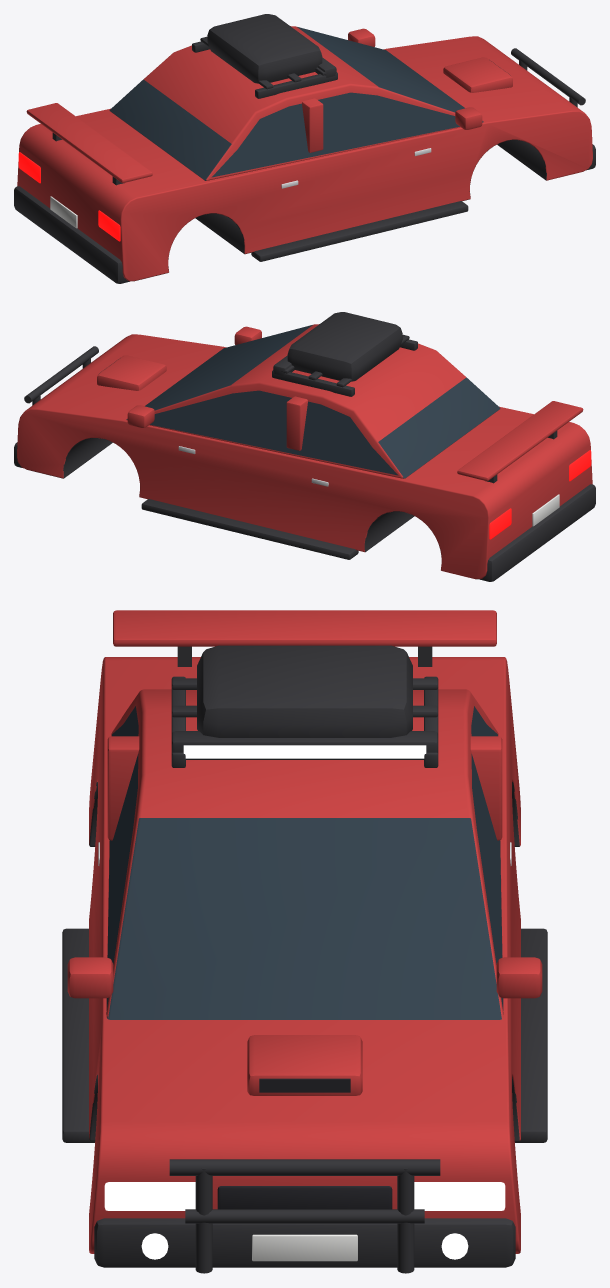
The model's file is sedan_classico.glb.
3 views of the same model, one above another, from view 1: azimuth 30°, elevation 25°; view 2: azimuth 150°, elevation 25°; view 3: azimuth 270°, elevation 25° (orthographic). The views are drawn at different scales.
Visible parts, largest first — view 1: carroceria, cabine, bagageiro, asa, parachoque_t, estribo, tomada, coluna0, qm_barra, rack_trilho, retrovisor-1, placa_t (+3 smaller); view 2: carroceria, cabine, bagageiro, asa, parachoque_t, estribo.001, tomada, coluna0, qm_barra, rack_trilho.001, retrovisor1, placa_t (+3 smaller); view 3: cabine, carroceria, bagageiro, parachoque_d, asa, tomada, estribo, estribo.001, qm_barra, coluna0, grade, qm_barra2 (+10 smaller).
Boxes of the visible parts, left/top/right/bottom form: carroceria: left=17, top=36, right=592, bottom=281; cabine: left=109, top=26, right=483, bottom=180; bagageiro: left=207, top=14, right=322, bottom=83; asa: left=26, top=103, right=152, bottom=182; parachoque_t: left=14, top=186, right=129, bottom=283; estribo: left=251, top=201, right=468, bottom=261; tomada: left=443, top=57, right=512, bottom=92; coluna0: left=302, top=98, right=323, bottom=152; qm_barra: left=511, top=48, right=585, bottom=105; rack_trilho: left=255, top=72, right=337, bottom=98; retrovisor-1: left=455, top=107, right=482, bottom=129; placa_t: left=50, top=196, right=77, bottom=228; carroceria: left=17, top=334, right=592, bottom=579; cabine: left=126, top=324, right=500, bottom=478; bagageiro: left=287, top=312, right=402, bottom=381; asa: left=457, top=401, right=583, bottom=480; parachoque_t: left=480, top=484, right=595, bottom=581; estribo.001: left=141, top=499, right=358, bottom=559; tomada: left=97, top=355, right=166, bottom=390; coluna0: left=286, top=396, right=307, bottom=450; qm_barra: left=24, top=346, right=98, bottom=403; rack_trilho.001: left=272, top=370, right=354, bottom=396; retrovisor1: left=127, top=405, right=154, bottom=427; placa_t: left=532, top=494, right=559, bottom=526; cabine: left=106, top=689, right=503, bottom=1019; carroceria: left=89, top=657, right=520, bottom=1253; bagageiro: left=197, top=645, right=412, bottom=737; parachoque_d: left=94, top=1218, right=515, bottom=1267; asa: left=113, top=610, right=496, bottom=646; tomada: left=247, top=1035, right=362, bottom=1095; estribo: left=62, top=928, right=94, bottom=1142; estribo.001: left=515, top=928, right=547, bottom=1142; qm_barra: left=169, top=1159, right=440, bottom=1175; coluna0: left=107, top=736, right=502, bottom=840; grade: left=217, top=1186, right=392, bottom=1209; qm_barra2: left=185, top=1209, right=424, bottom=1223.
Bounding box in the file's own units: 4.7 × 1.53 × 2.02.
